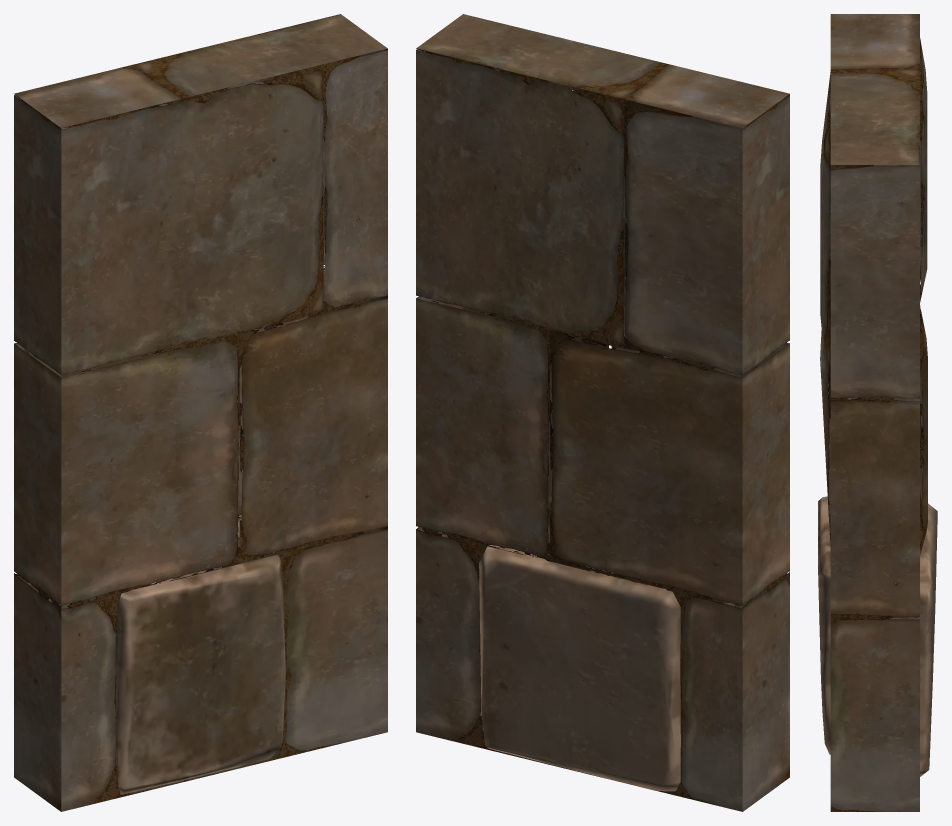
3 renders of one model, left to right at view 1: azimuth 30°, elevation 25°; view 2: azimuth 150°, elevation 25°; view 3: azimuth 270°, elevation 25°, orthographic. The views are drawn at different scales.
Parts seen in each view (by area): view 1: SM_Vault_2x4m_Wall_01_LOD0; view 2: SM_Vault_2x4m_Wall_01_LOD0; view 3: SM_Vault_2x4m_Wall_01_LOD0.
Boxes of the visible parts, bbox=[...] form: SM_Vault_2x4m_Wall_01_LOD0: bbox=[14, 14, 387, 811]; SM_Vault_2x4m_Wall_01_LOD0: bbox=[416, 14, 789, 811]; SM_Vault_2x4m_Wall_01_LOD0: bbox=[818, 14, 937, 811].
Size of the model in its own units: 2 by 4 by 0.6704.
2 materials, 2 textured.
